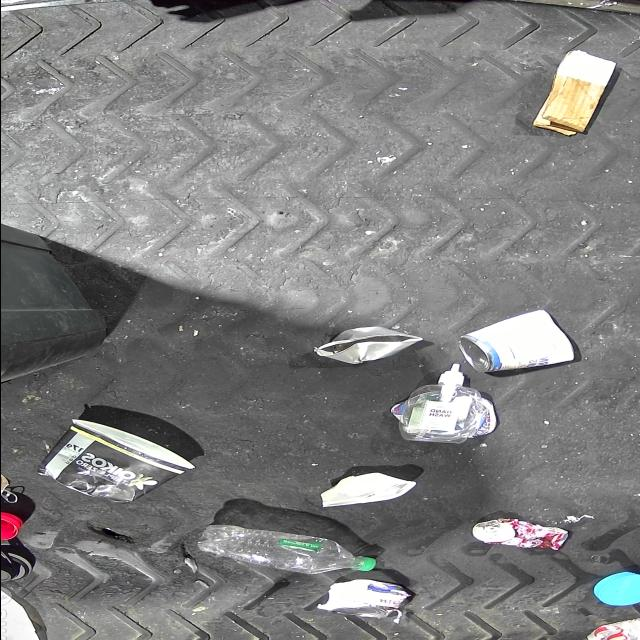can: (455, 308, 575, 374), (312, 326, 422, 364), (471, 518, 568, 552), (323, 580, 407, 616), (582, 619, 640, 640)
milk_jug: (0, 576, 42, 640)
plastic_bottle: (196, 524, 376, 574)
